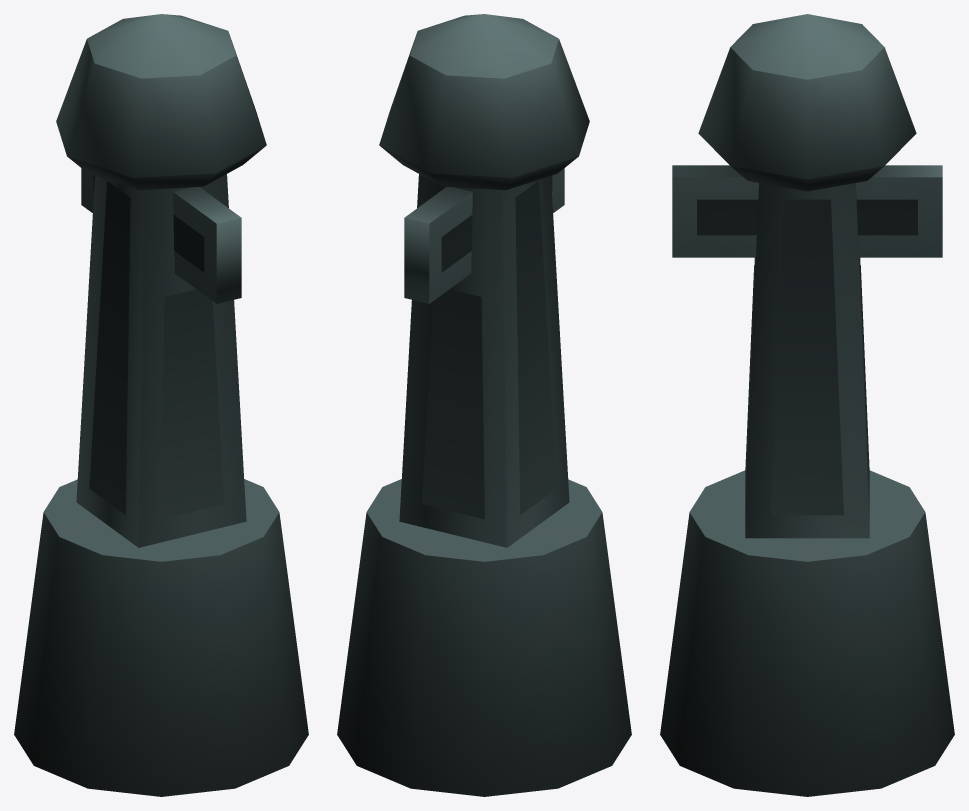
File: tc_metal_pole_1a.glb
3 renders of one model, left to right at view 1: azimuth 30°, elevation 25°; view 2: azimuth 150°, elevation 25°; view 3: azimuth 270°, elevation 25°, orthographic.
Visible parts, largest first — view 1: Metal_Pole_1A; view 2: Metal_Pole_1A; view 3: Metal_Pole_1A.
Part boxes in pixels (x1=…): Metal_Pole_1A: x1=14, y1=14, x2=308, y2=796; Metal_Pole_1A: x1=337, y1=14, x2=631, y2=796; Metal_Pole_1A: x1=660, y1=14, x2=954, y2=796.
Bounding box in the file's own units: 0.6 × 1.62 × 0.6.
1 material, 1 textured.
